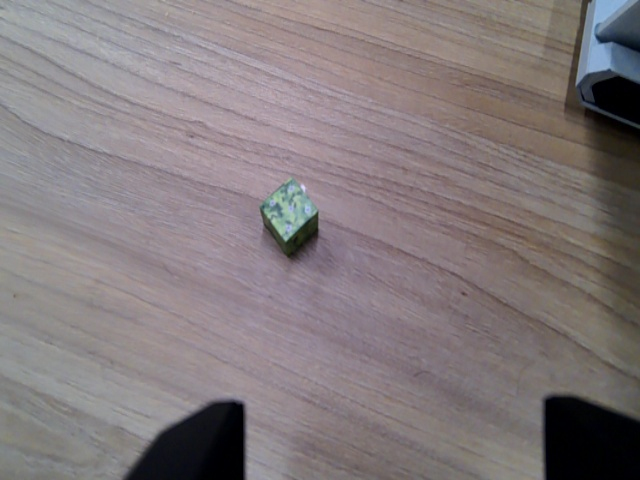grass: (256, 175, 321, 256)
